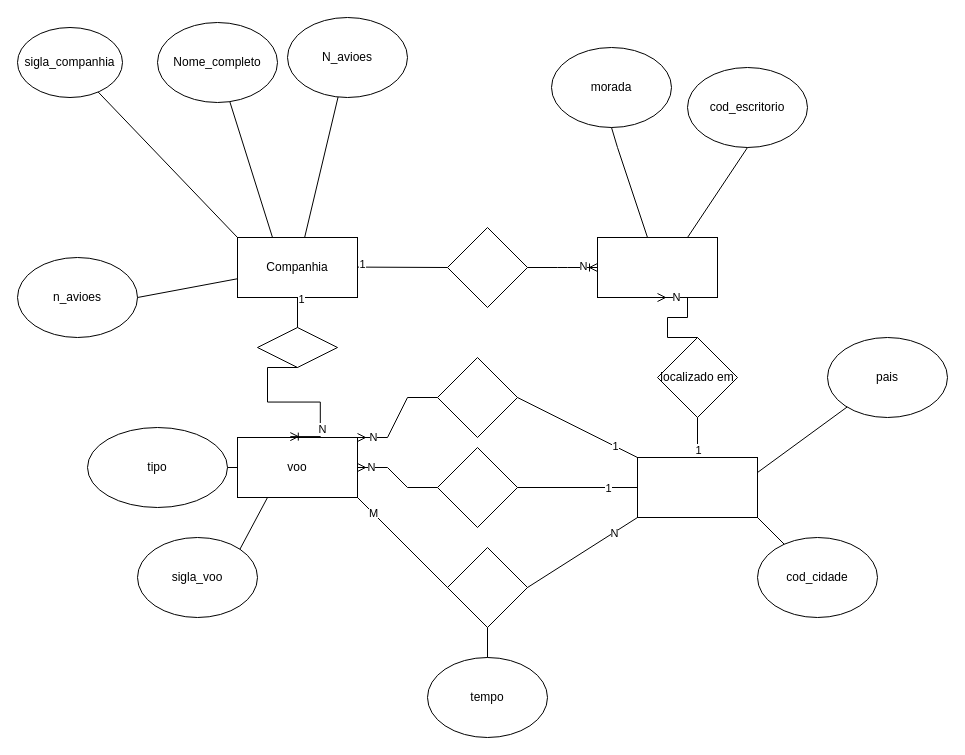
Some shapes in this 965 by 755 pixel diagram are drawn without their labels. Here are the shapes that lost their labels. From the top down, the box of each, then its label:
(446, 226, 528, 308): tem
(596, 236, 718, 298): Escritorios
(256, 326, 338, 368): efeutua
(436, 356, 518, 438): inicia em
(436, 446, 518, 528): termina em
(636, 456, 758, 518): Cidade
(446, 546, 528, 628): escala
